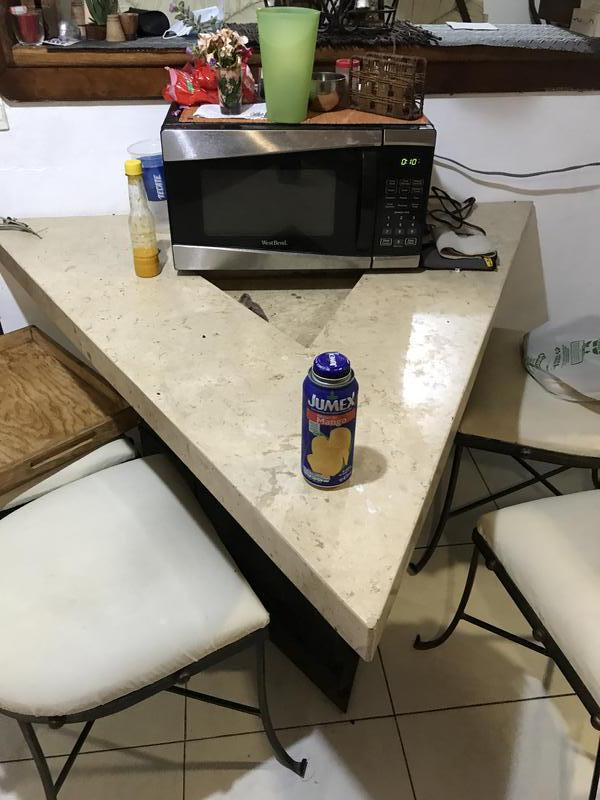jugo_jumex: (301, 350, 356, 490)
